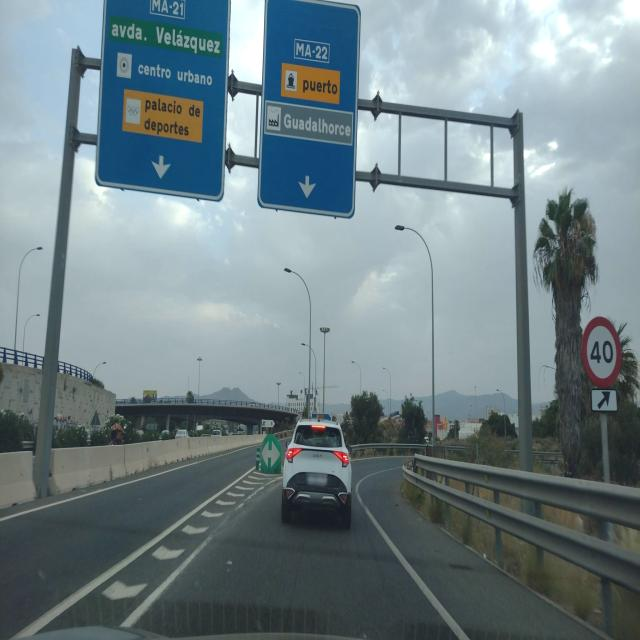car: (281, 415, 352, 528)
